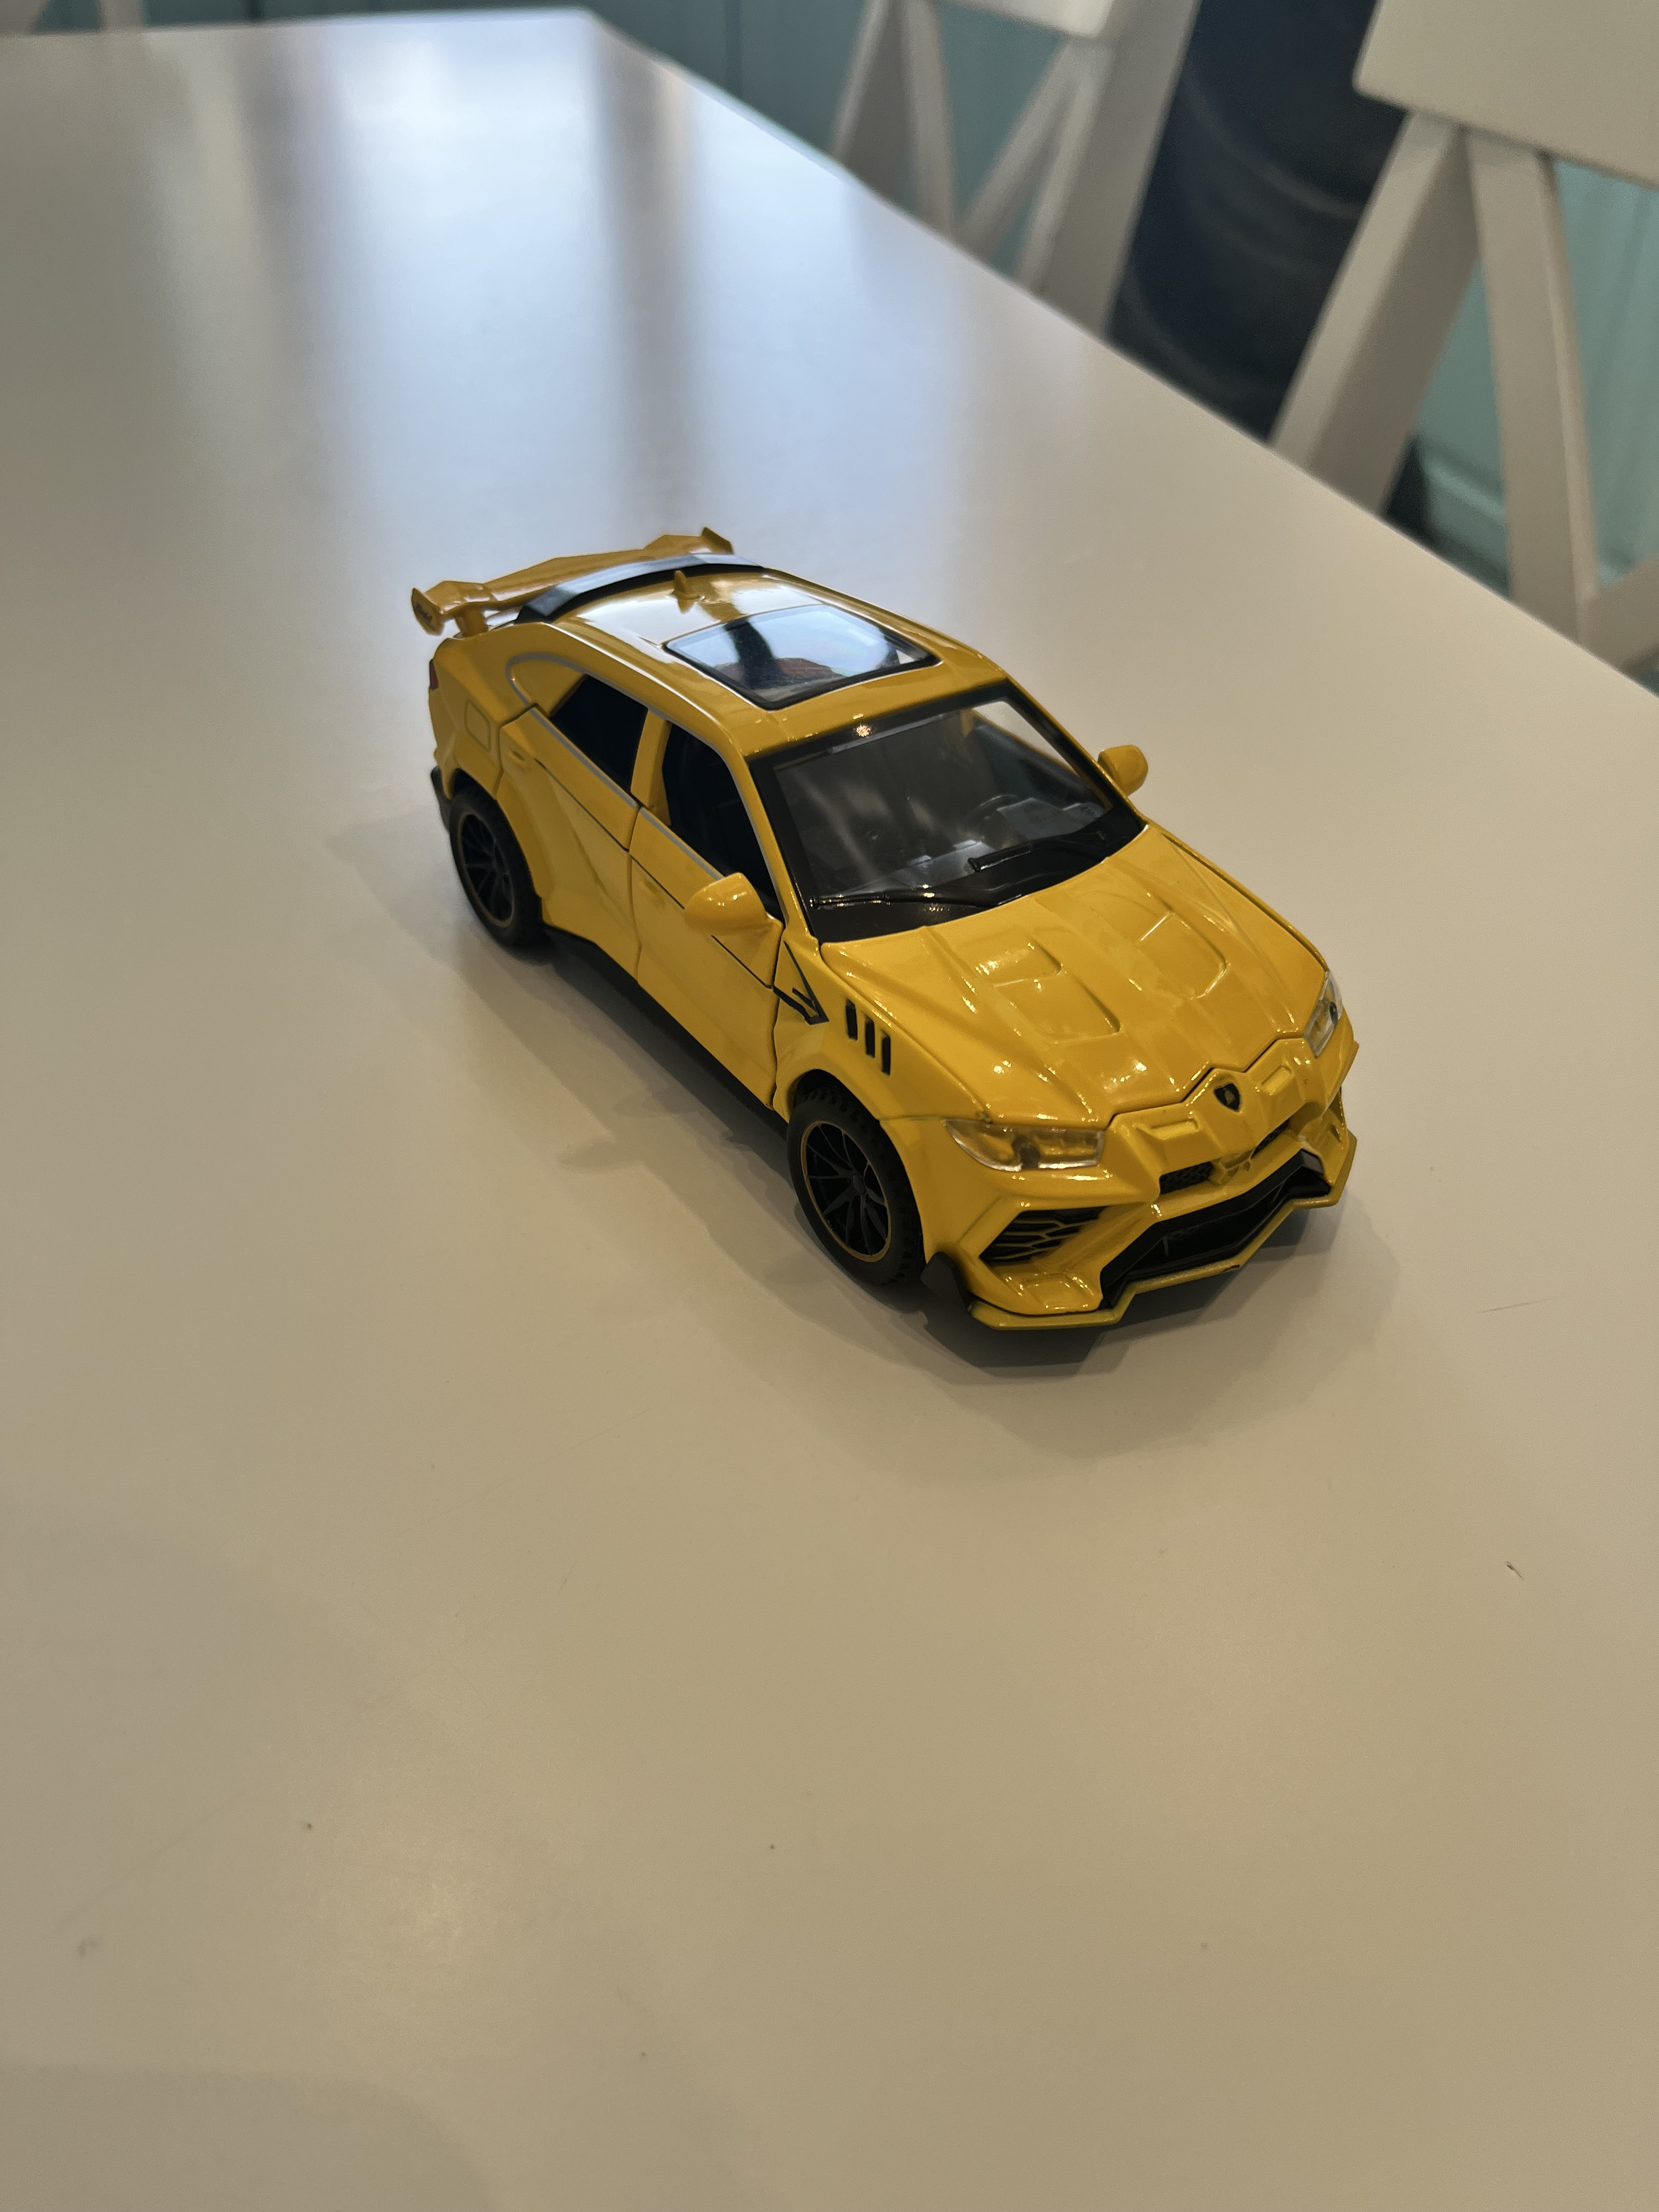lambo: (361, 488, 1384, 1372)
